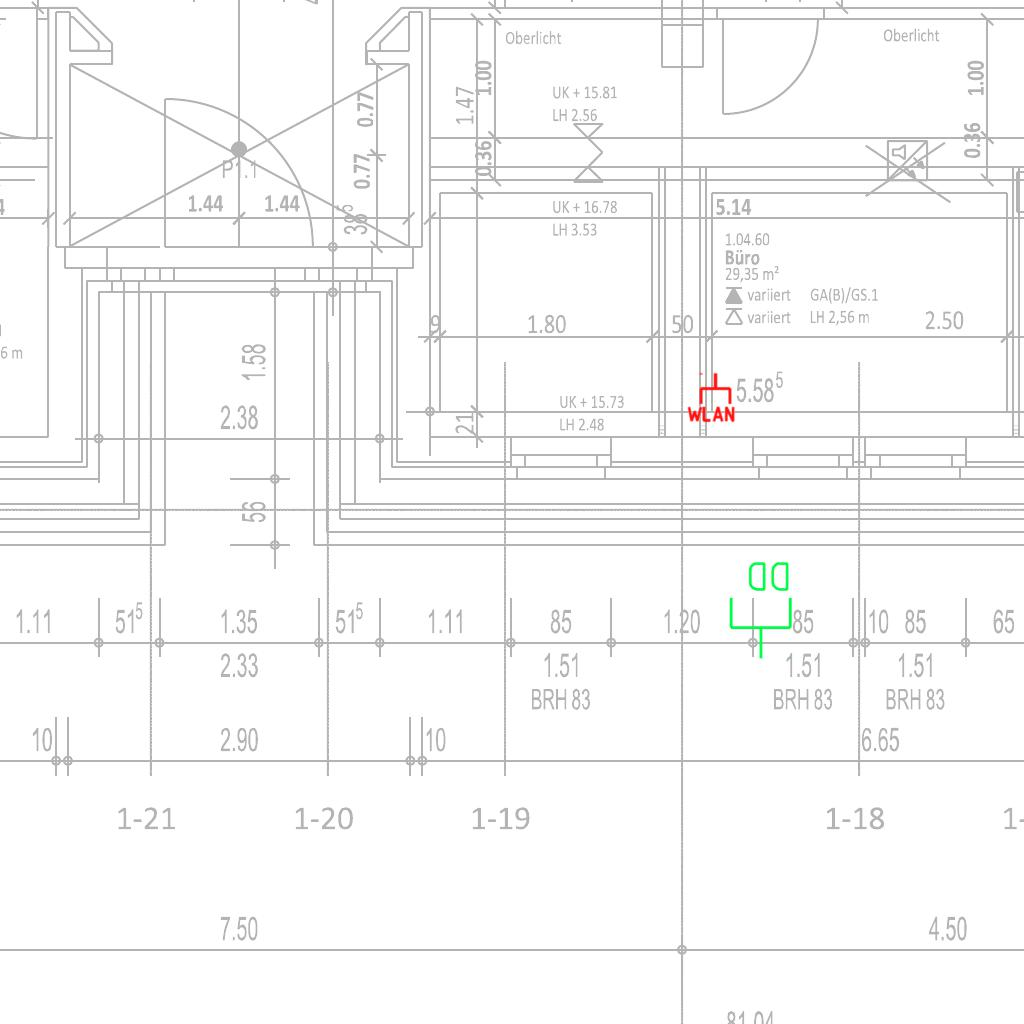Datenanschluss_zweifach: (727, 558, 796, 661)
WLAN: (685, 371, 737, 423)
